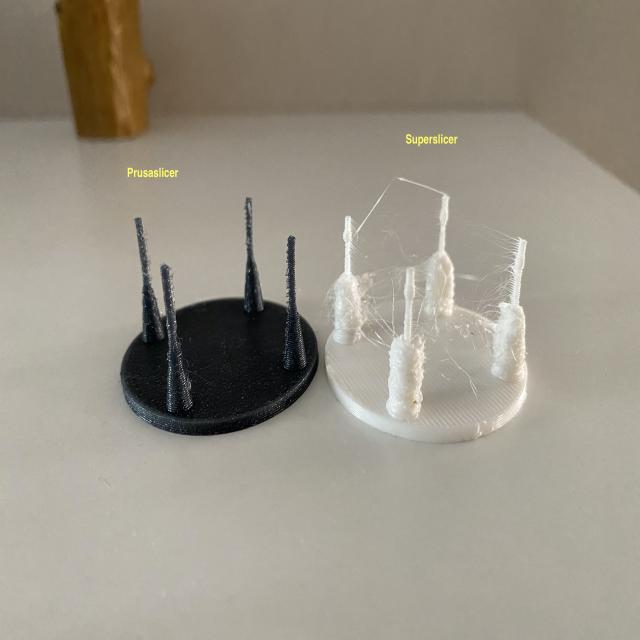Stringing: (349, 243, 522, 355)
